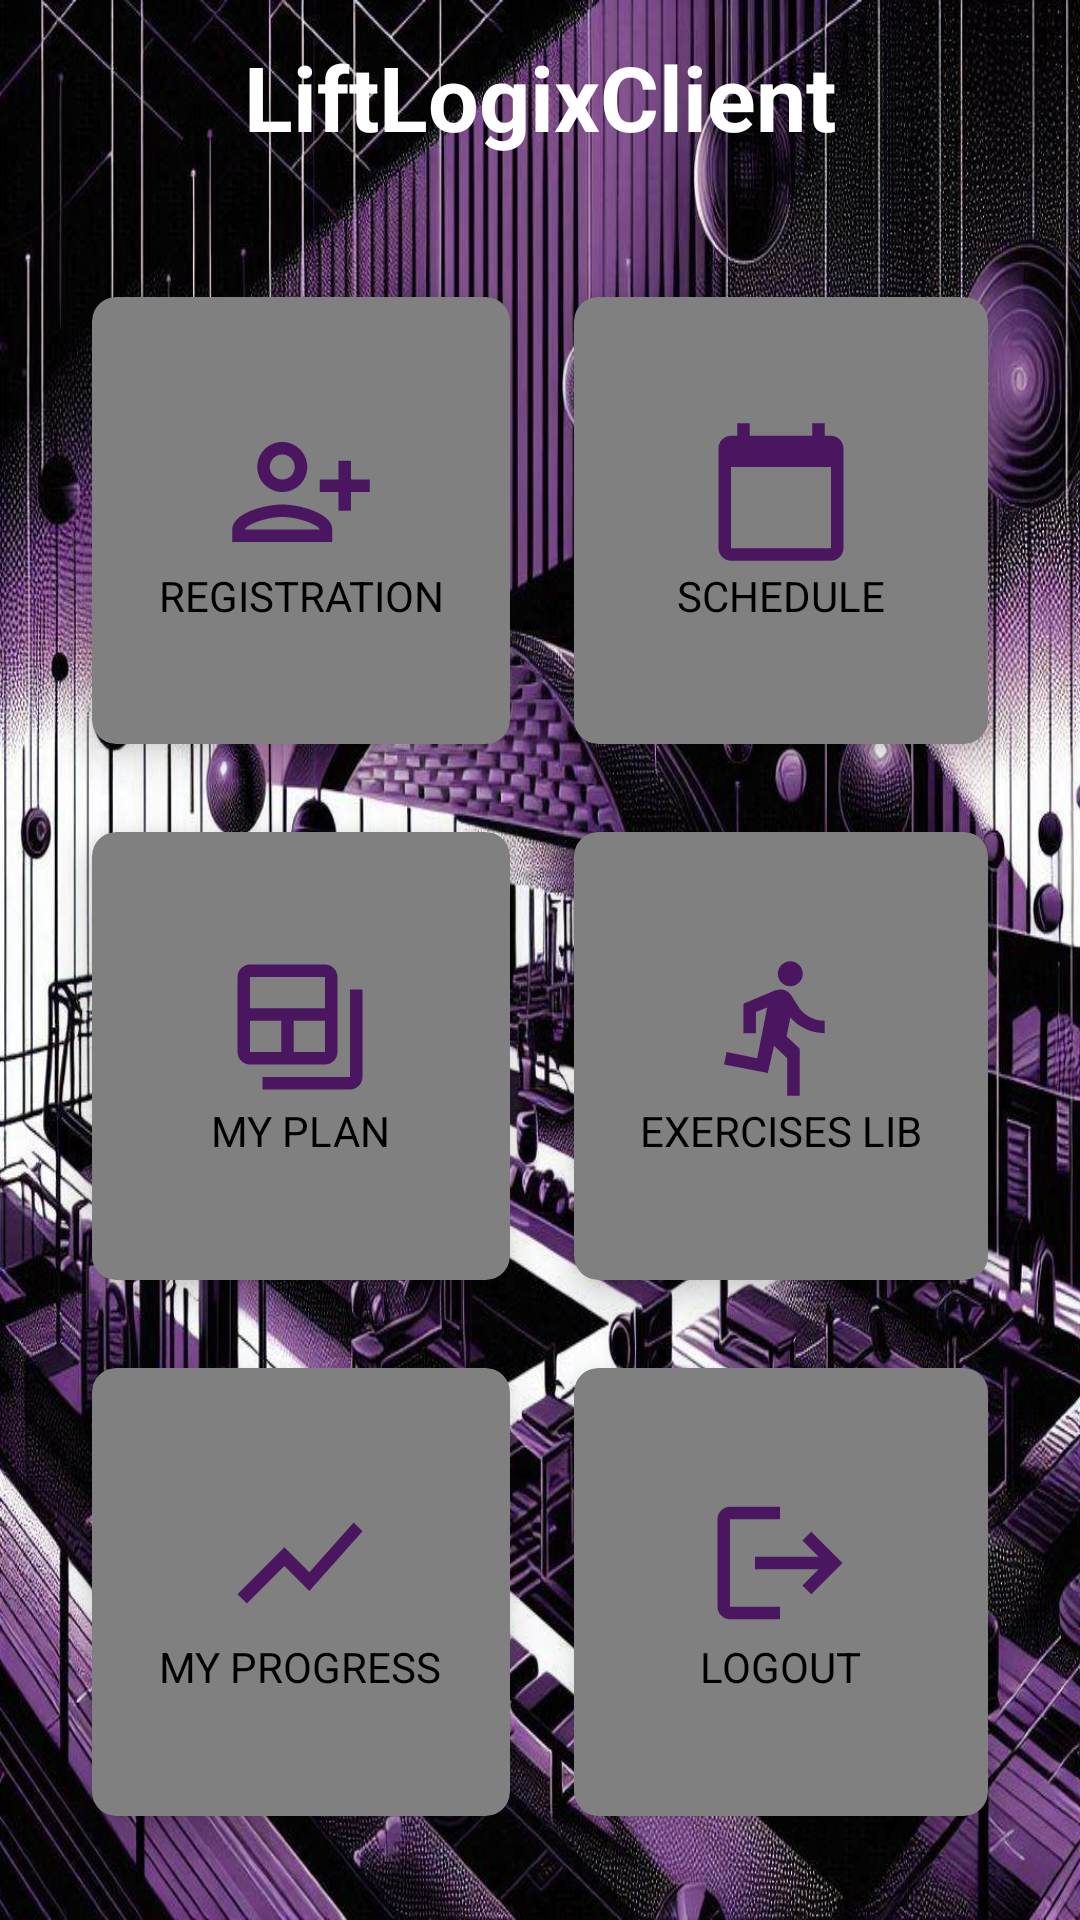

Icon bounding boxes for this 1080×1920 phone screenshot, format [x1,y1,x2,y2]:
backup table: [237,964,363,1090]
calendar today: [718,423,844,561]
directions run: [724,961,825,1096]
person add: [232,442,370,542]
show chart: [238,1523,362,1603]
